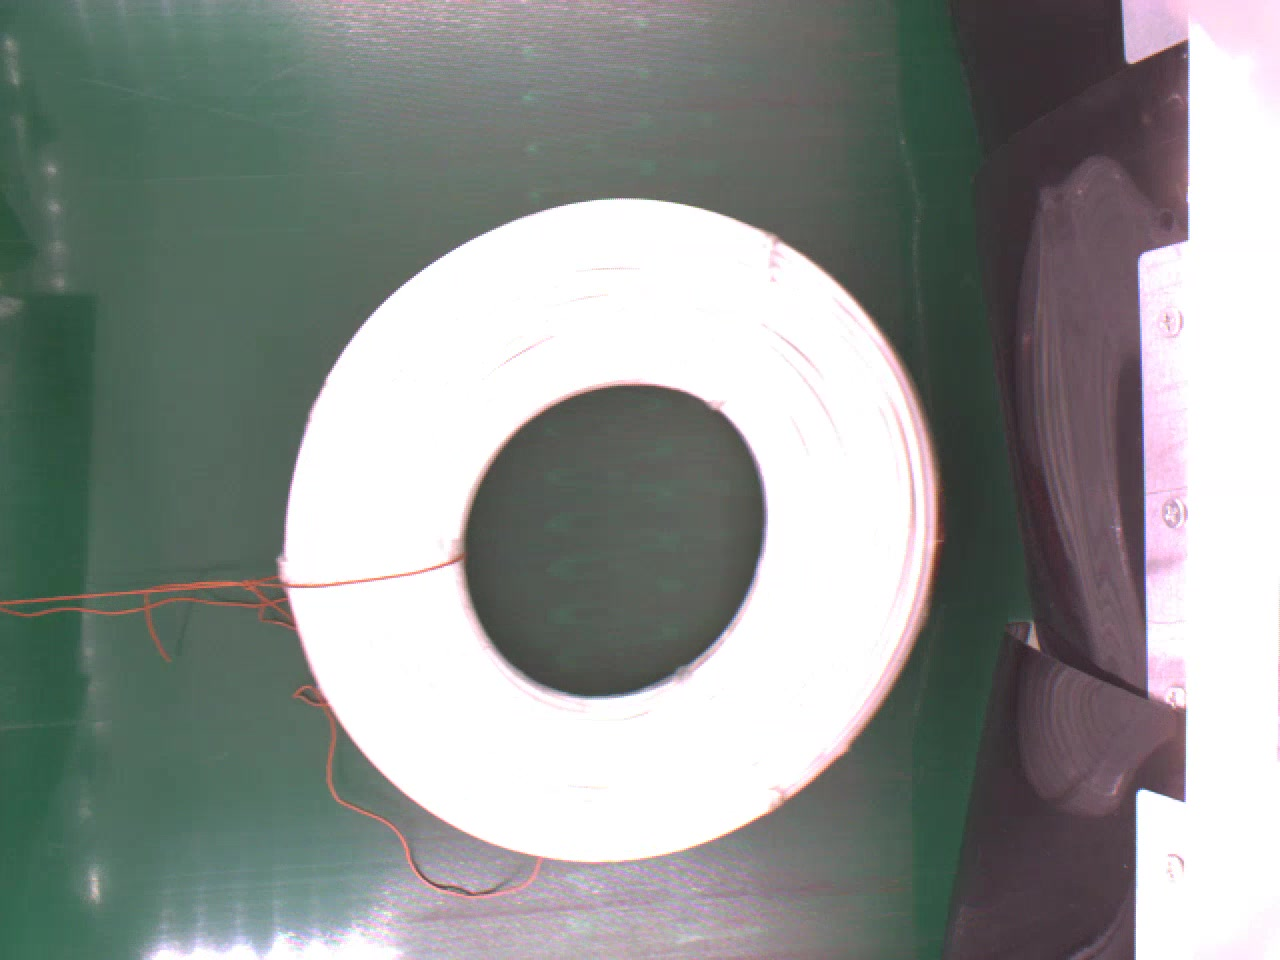white: (272, 194, 950, 865)
